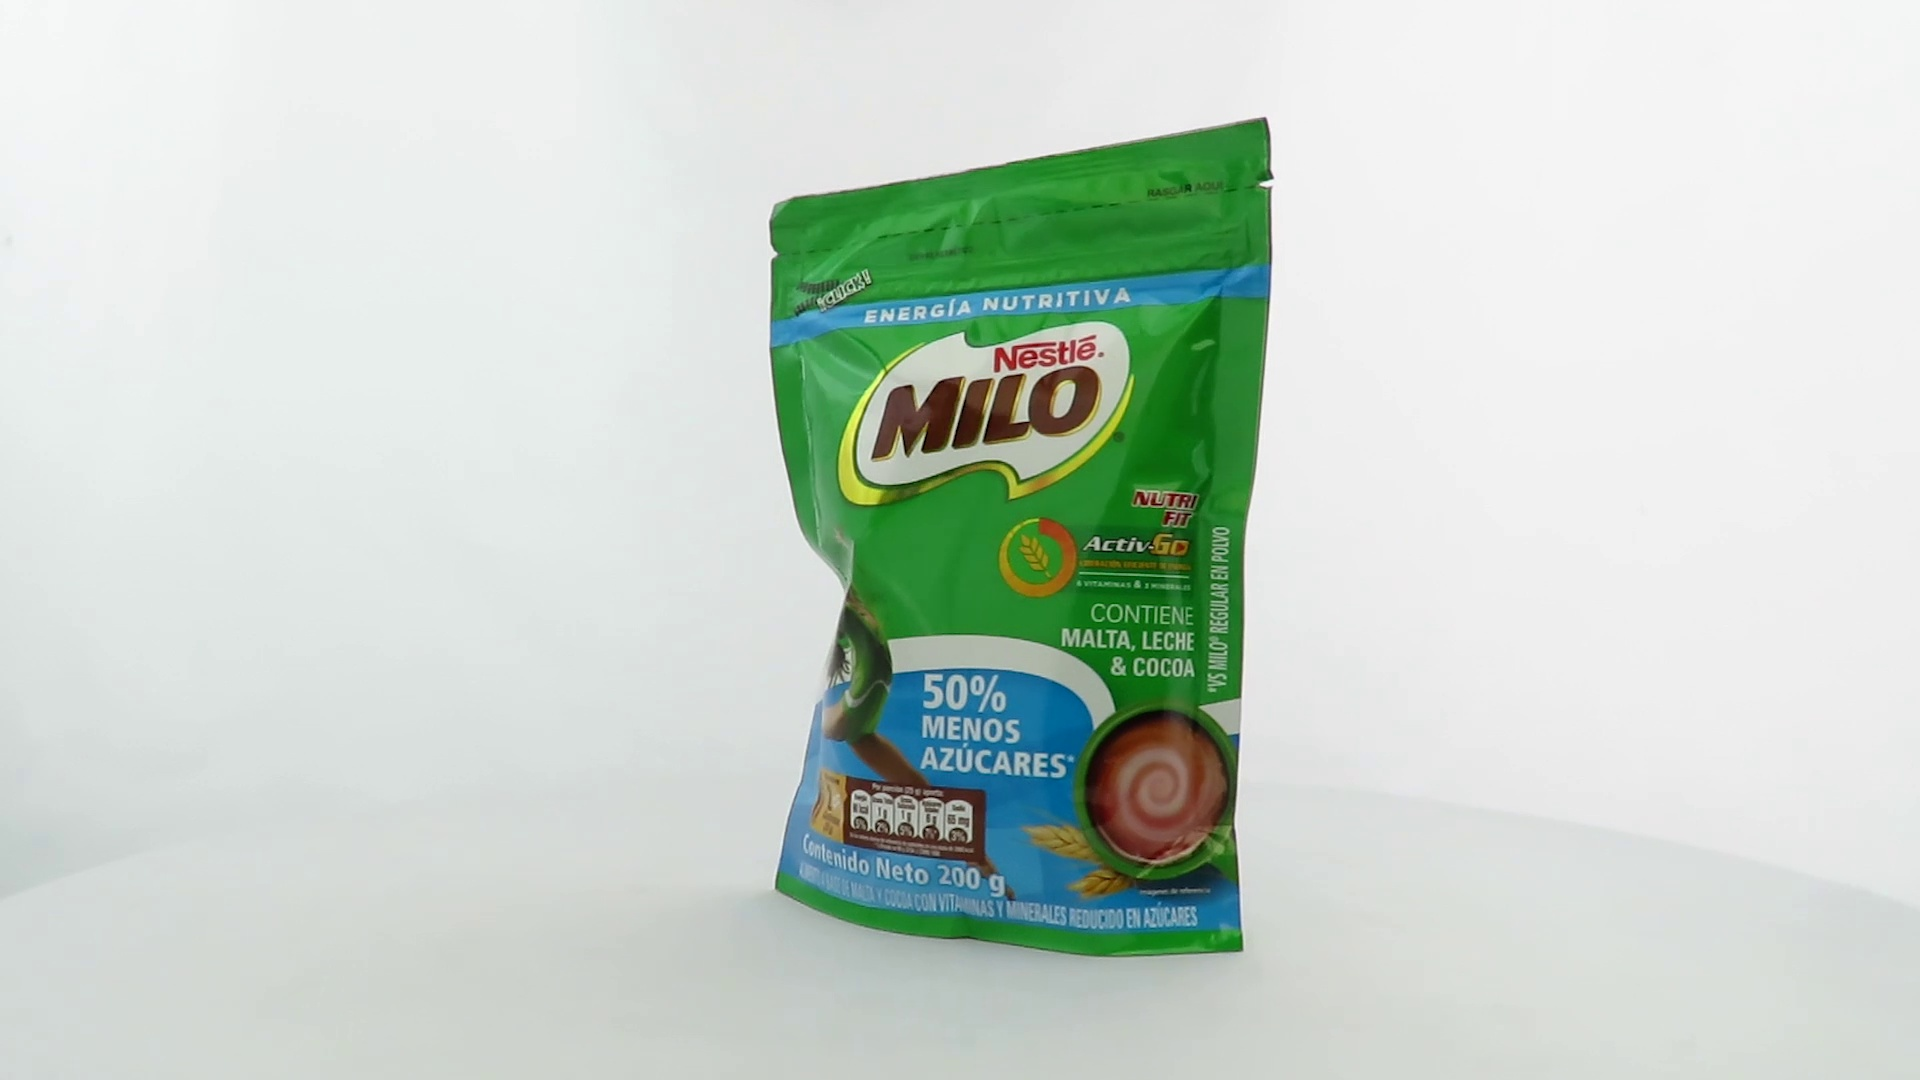COL0170205DYP20000: (764, 112, 1280, 964)
